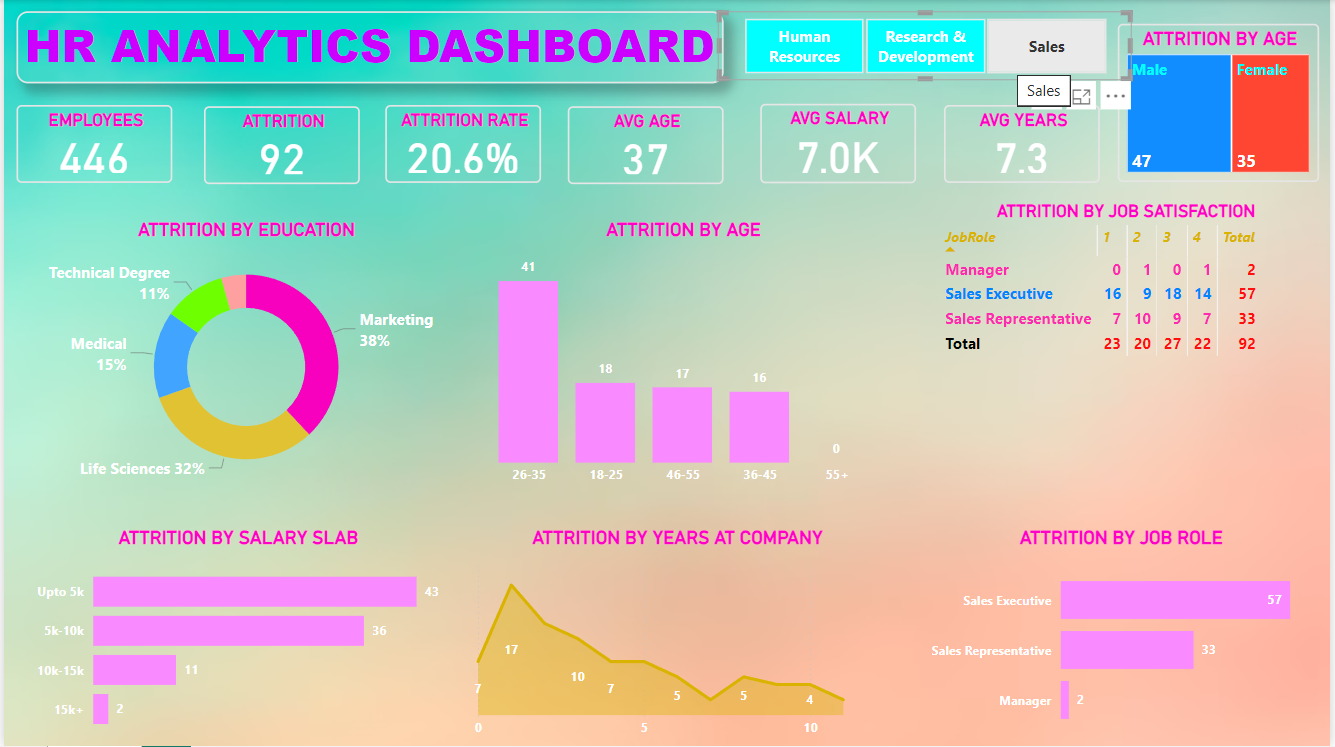

The dashboard page shown, as its layout file describes it:
{"tool":"powerbi","page":{"name":"Page 1","canvas":[1280,720],"ordinal":0},"visuals":[{"type":"card","title":"EMPLOYEES","fields":{"Values":["CountNonNull(HR_Analytics.EmpID)"]},"box":[11.7,101.6,150.3,75.1],"z":0},{"type":"card","title":"ATTRITION","fields":{"Values":["Sum(HR_Analytics.AttritionCount)"]},"box":[193,102.3,150.3,75.1],"z":1000},{"type":"card","title":"ATTRITION RATE","fields":{"Values":["HR_Analytics.AttritionRate"]},"box":[367.9,101.1,150.3,75.1],"z":2000},{"type":"card","title":"AVG AGE","fields":{"Values":["Avg(HR_Analytics.Age)"]},"box":[544.1,102.3,150.3,75.1],"z":3000},{"type":"card","title":"AVG SALARY","fields":{"Values":["Avg(HR_Analytics.MonthlyIncome)"]},"box":[729.4,99.8,150.3,76.4],"z":4000},{"type":"card","title":"AVG YEARS","fields":{"Values":["Avg(HR_Analytics.YearsAtCompany)"]},"box":[906.9,101.1,150.3,75.1],"z":5000},{"type":"donutChart","title":"ATTRITION BY EDUCATION","fields":{"Category":["HR_Analytics.EducationField"],"Y":["Sum(HR_Analytics.AttritionCount)"]},"box":[25.9,211.2,417.2,265.6],"z":6000},{"type":"columnChart","title":"ATTRITION BY AGE","fields":{"Category":["HR_Analytics.AgeGroup"],"Y":["Sum(HR_Analytics.AttritionCount)"]},"box":[443.1,211.2,426.2,265.6],"z":7000},{"type":"pivotTable","title":"ATTRITION BY JOB SATISFACTION","fields":{"Rows":["HR_Analytics.JobRole"],"Columns":["HR_Analytics.JobSatisfaction"],"Values":["Sum(HR_Analytics.AttritionCount)"]},"box":[896.5,193,373.1,301.9],"z":8000},{"type":"barChart","title":"ATTRITION BY SALARY SLAB","fields":{"Category":["HR_Analytics.SalarySlab"],"Y":["Sum(HR_Analytics.AttritionCount)"]},"box":[25.9,507.9,401.6,212.5],"z":9000},{"type":"barChart","title":"ATTRITION BY JOB ROLE","fields":{"Category":["HR_Analytics.JobRole"],"Y":["Sum(HR_Analytics.AttritionCount)"]},"box":[888.7,507.9,378.3,212.5],"z":10000},{"type":"stackedAreaChart","title":"ATTRITION BY YEARS AT COMPANY","fields":{"Category":["HR_Analytics.YearsAtCompany"],"Y":["Sum(HR_Analytics.AttritionCount)"]},"box":[443.1,507.9,414.6,212.5],"z":11000},{"type":"treemap","title":"ATTRITION BY AGE","fields":{"Group":["HR_Analytics.Gender"],"Values":["Sum(HR_Analytics.AttritionCount)"]},"box":[1075.3,23.3,194.3,152.9],"z":12000},{"type":"slicer","fields":{"Values":["HR_Analytics.Department"]},"box":[689.2,10.4,399,67.4],"z":13000},{"type":"textbox","box":[11.7,10.4,682.8,70],"z":14000}]}

Visuals, with their boxes on the page's 1280x720 design canvas (x1, y1, x2, y2). These are canvas units, not pixel positions in the 1335x747 screenshot, which may show the page scaled, cropped or inside an application window:
"EMPLOYEES" card: region(12, 102, 162, 177)
"ATTRITION" card: region(193, 102, 343, 177)
"ATTRITION RATE" card: region(368, 101, 518, 176)
"AVG AGE" card: region(544, 102, 694, 177)
"AVG SALARY" card: region(729, 100, 880, 176)
"AVG YEARS" card: region(907, 101, 1057, 176)
"ATTRITION BY EDUCATION" donutChart: region(26, 211, 443, 477)
"ATTRITION BY AGE" columnChart: region(443, 211, 869, 477)
"ATTRITION BY JOB SATISFACTION" pivotTable: region(896, 193, 1270, 495)
"ATTRITION BY SALARY SLAB" barChart: region(26, 508, 428, 720)
"ATTRITION BY JOB ROLE" barChart: region(889, 508, 1267, 720)
"ATTRITION BY YEARS AT COMPANY" stackedAreaChart: region(443, 508, 858, 720)
"ATTRITION BY AGE" treemap: region(1075, 23, 1270, 176)
slicer - HR_Analytics.Department: region(689, 10, 1088, 78)
textbox: region(12, 10, 694, 80)
